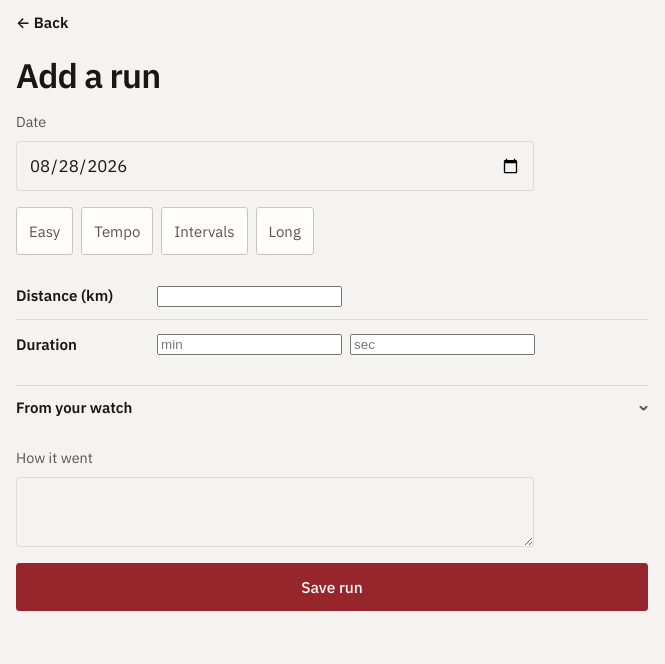
RunEditor — adding a run by hand › never reaches the network when the duration is missing
Step 1. Type "8.2" into the 1st number field → coordinates (250, 297), box x1=157 y1=286 x2=342 y2=307
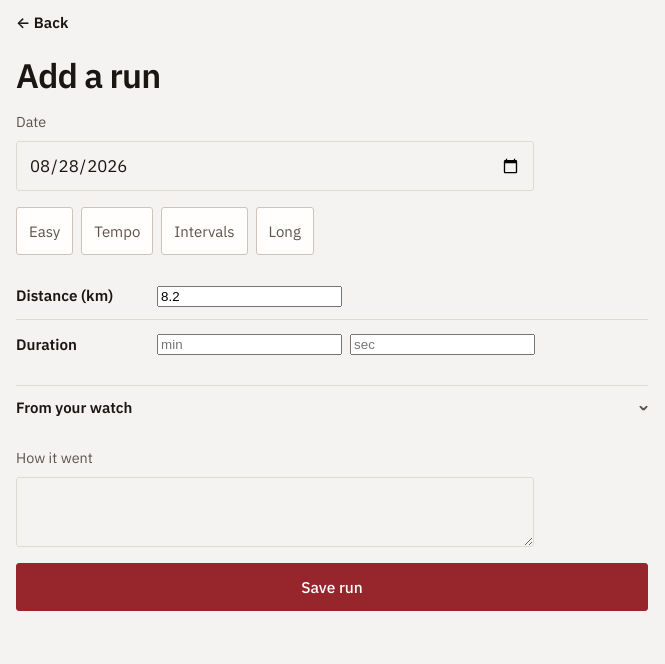
Step 2. Click the button with class "tap-btn" showing "Easy" → coordinates (45, 231), box x1=16 y1=207 x2=73 y2=255
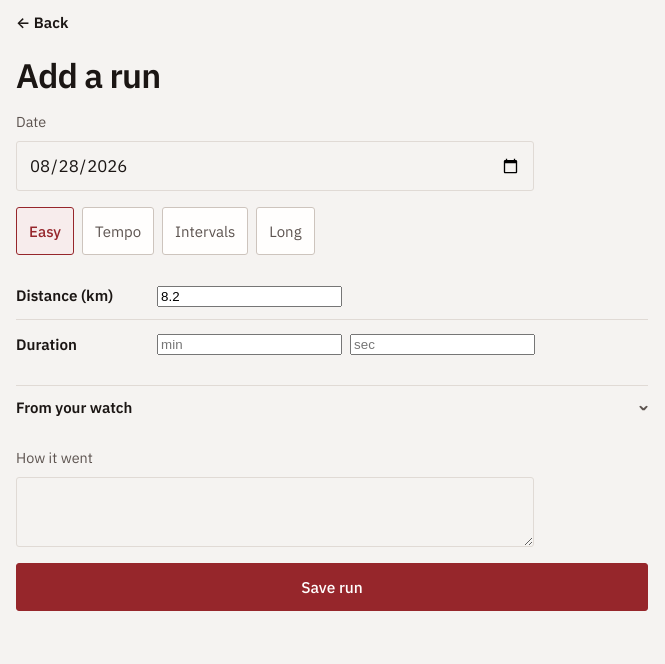
Step 3. Click the button "Save run" → coordinates (332, 587), box x1=16 y1=563 x2=648 y2=611
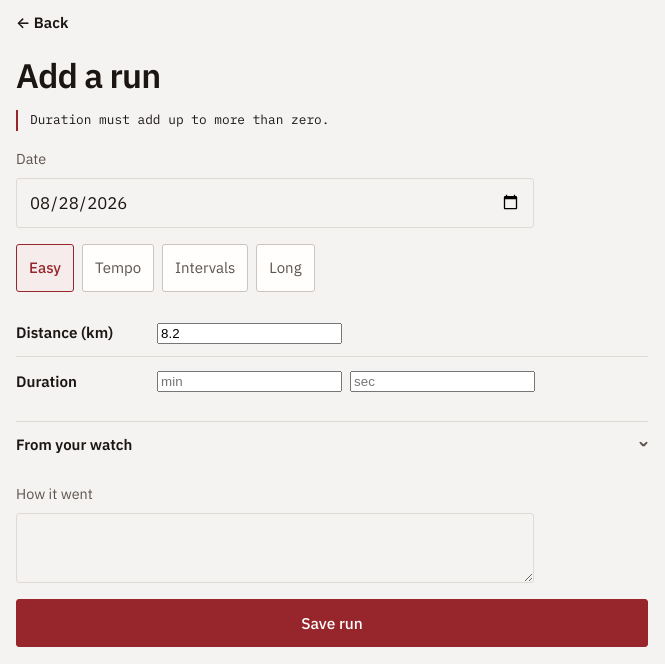
Result: the list with class "error-list" shows "Duration" at x1=30 y1=111 x2=330 y2=128
